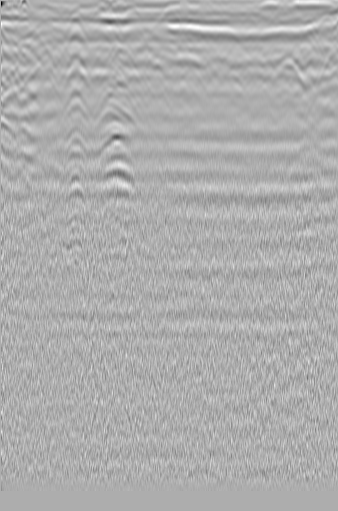가스: (91, 132, 136, 167)
상수: (12, 28, 50, 58)
오수: (270, 50, 304, 77)
우수: (146, 11, 188, 49)
